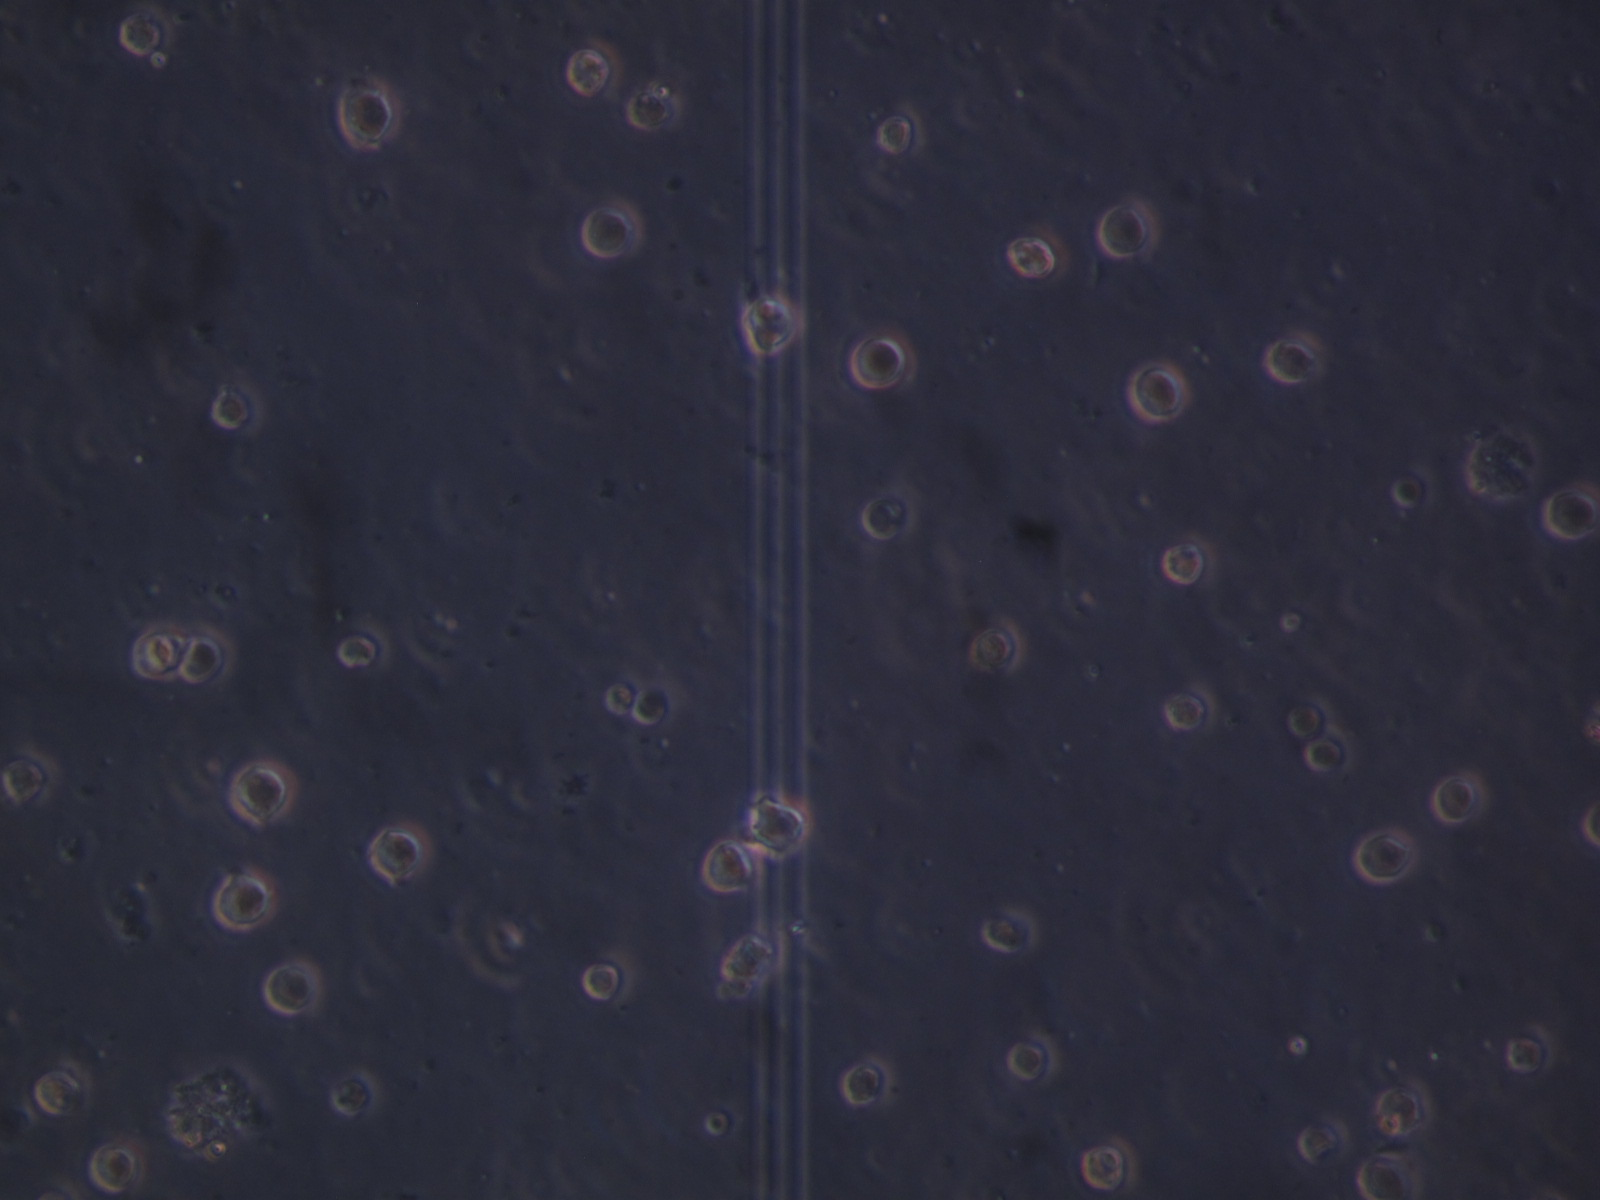hemo: (339, 74, 401, 153), (850, 323, 916, 392), (1095, 197, 1162, 261), (213, 868, 278, 933), (365, 818, 432, 881), (231, 760, 295, 824), (745, 794, 808, 858), (580, 195, 643, 258), (33, 1053, 91, 1121), (262, 957, 323, 1018), (1128, 361, 1187, 424), (563, 37, 622, 100), (1264, 328, 1327, 386), (1007, 226, 1070, 284), (1373, 1075, 1432, 1136), (1354, 829, 1416, 887), (3, 745, 60, 807), (1537, 487, 1597, 545), (1296, 1109, 1354, 1168), (1429, 770, 1489, 827), (741, 294, 797, 354), (1356, 1152, 1426, 1200), (1083, 1134, 1140, 1194), (702, 838, 758, 896), (862, 482, 916, 542), (1159, 531, 1214, 589), (179, 626, 232, 687), (970, 614, 1020, 677), (1008, 1027, 1061, 1087), (580, 950, 631, 1008), (134, 621, 184, 681), (721, 934, 784, 981), (1162, 682, 1216, 736), (842, 1053, 894, 1108), (1507, 1024, 1555, 1084), (336, 621, 392, 673), (210, 378, 265, 430), (876, 105, 926, 160), (118, 5, 173, 55), (980, 906, 1037, 954), (626, 86, 682, 134), (333, 1065, 379, 1119), (1390, 461, 1436, 514), (89, 1142, 140, 1190), (1301, 736, 1354, 780), (1286, 696, 1334, 739), (632, 686, 671, 726)
